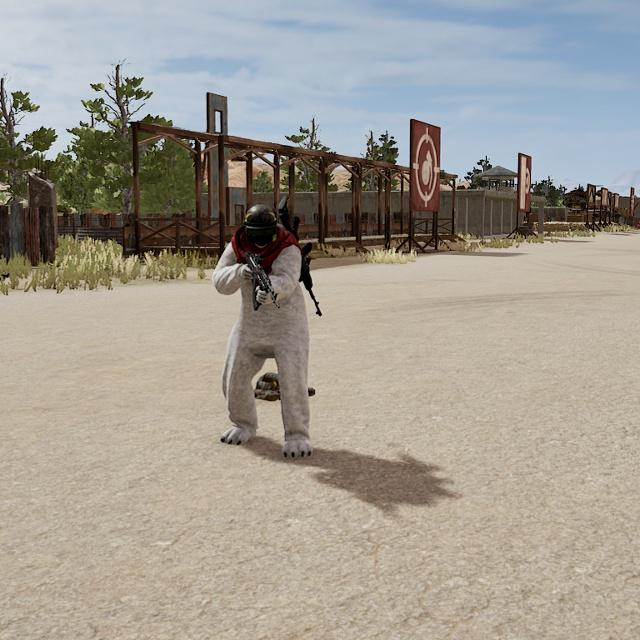head: (240, 202, 284, 249)
people: (210, 199, 317, 460)
